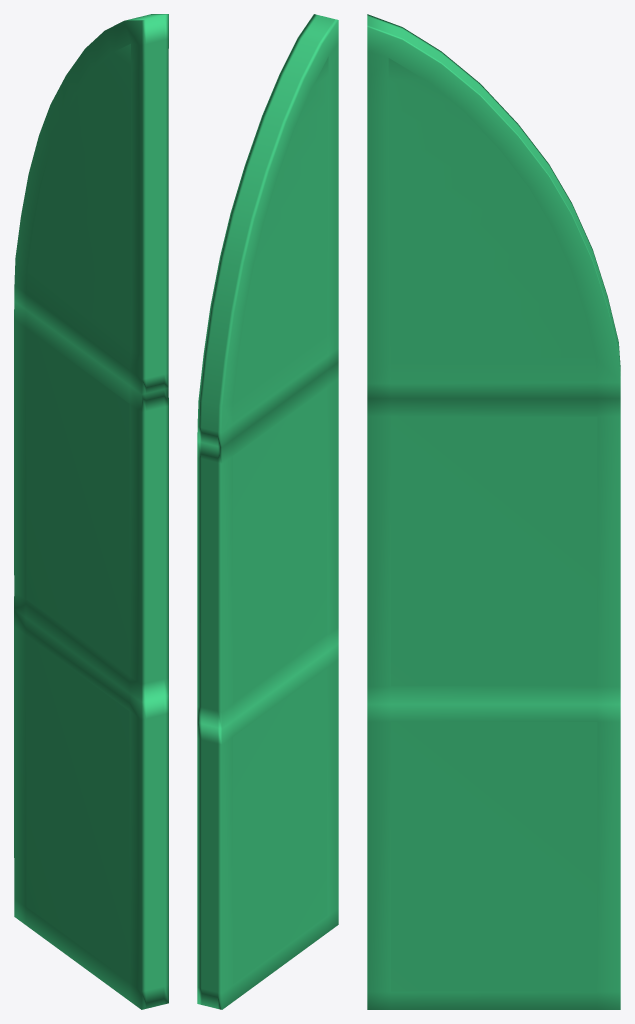
The model's file is Door_04_L_Lod0.fbx.
3 views of the same model, side by side, from view 1: azimuth 30°, elevation 25°; view 2: azimuth 150°, elevation 25°; view 3: azimuth 270°, elevation 25° (orthographic). The views are drawn at different scales.
Parts seen in each view (by area): view 1: Door_04_L_Lod0; view 2: Door_04_L_Lod0; view 3: Door_04_L_Lod0.
Part boxes in pixels (<box>): Door_04_L_Lod0: <box>14,14,168,1009</box>; Door_04_L_Lod0: <box>197,14,338,1009</box>; Door_04_L_Lod0: <box>367,14,620,1009</box>.
Bounding box in the file's own units: 27.92 × 964 × 226.
